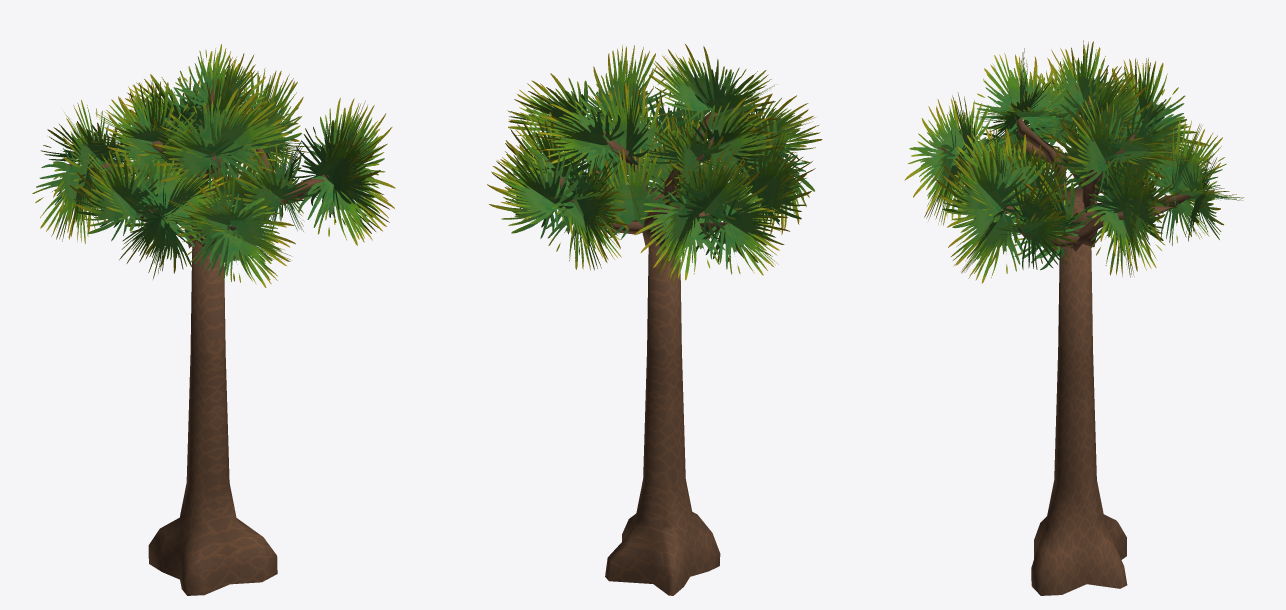
File: Tropic Jungle Tree 1.fbx
The picture shows the model from 3 angles, left to right: view 1: azimuth 30°, elevation 25°; view 2: azimuth 150°, elevation 25°; view 3: azimuth 270°, elevation 25°; orthographic projection.
Visible parts, largest first — view 1: Tree 1 Leaves, Tree 1; view 2: Tree 1 Leaves, Tree 1; view 3: Tree 1 Leaves, Tree 1.
Boxes of the visible parts, x1,y1,x2,y2 form: Tree 1 Leaves: [32, 44, 395, 287]; Tree 1: [68, 86, 355, 595]; Tree 1 Leaves: [487, 44, 822, 282]; Tree 1: [554, 112, 777, 595]; Tree 1 Leaves: [904, 40, 1244, 283]; Tree 1: [938, 93, 1191, 595].
Bounding box in the file's own units: 1413 × 2002 × 1349.
